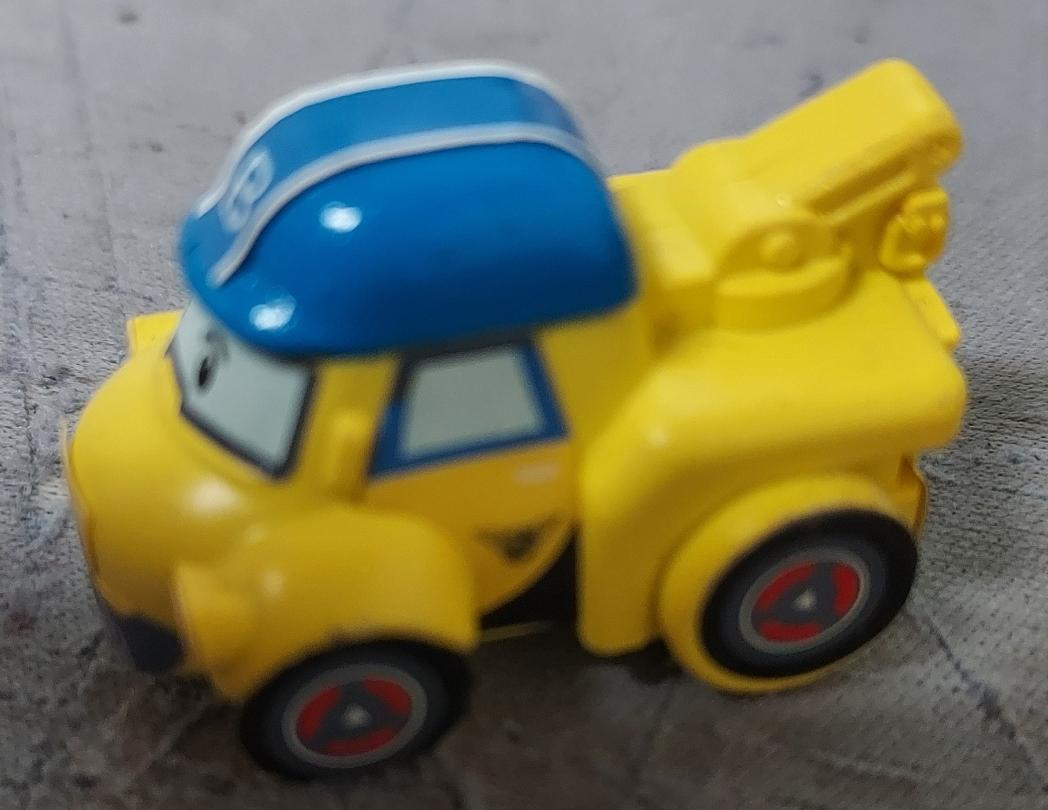car: (0, 1, 1048, 810)
